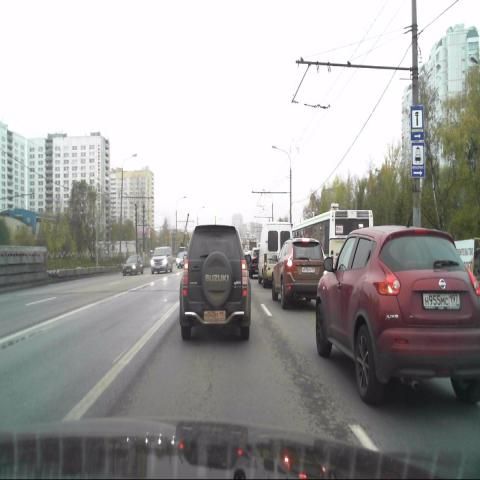7_4: (410, 106, 424, 141)
7_5: (412, 143, 424, 178)
